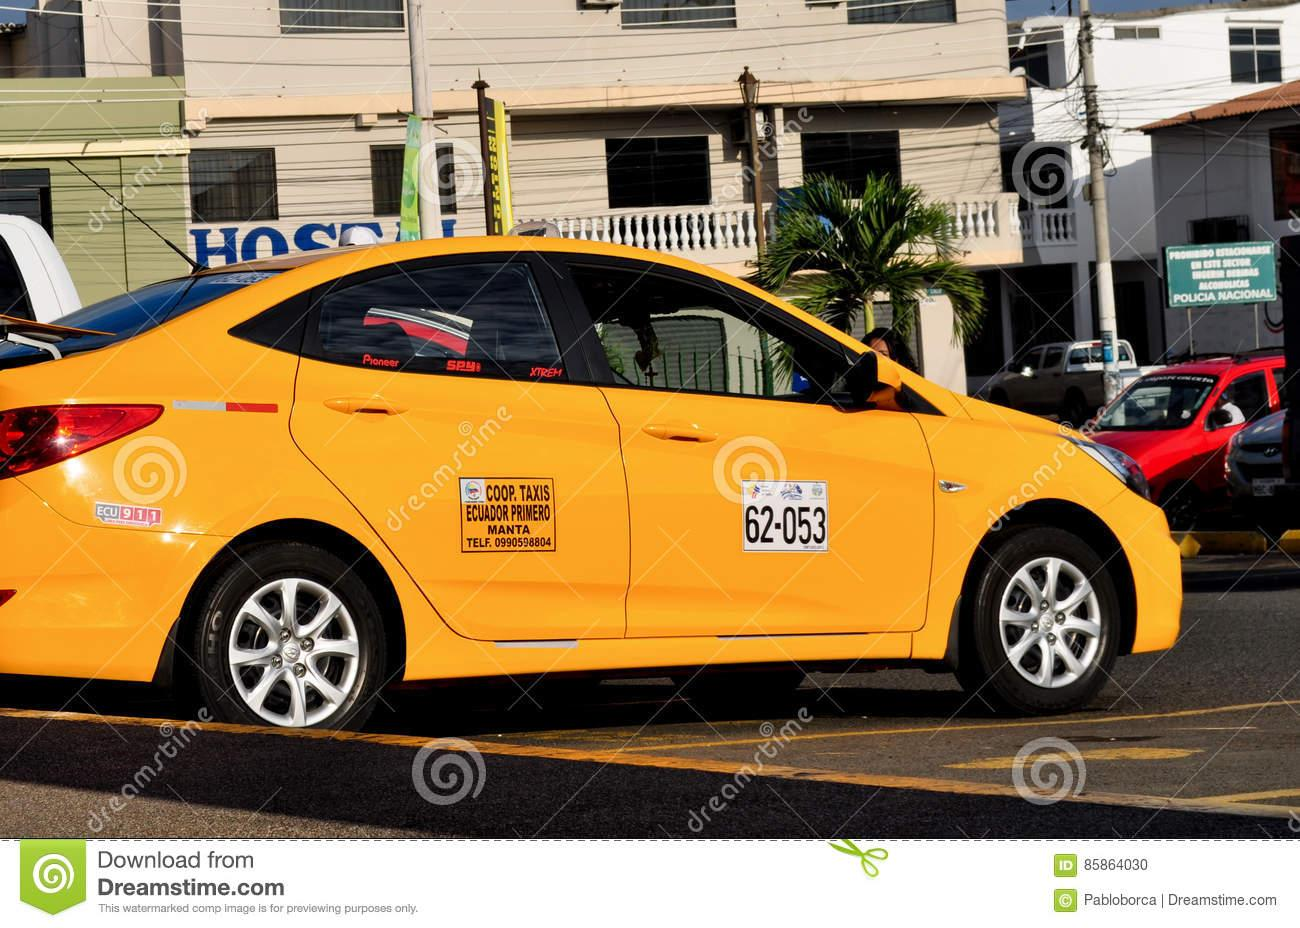taxi: (3, 191, 1213, 724)
